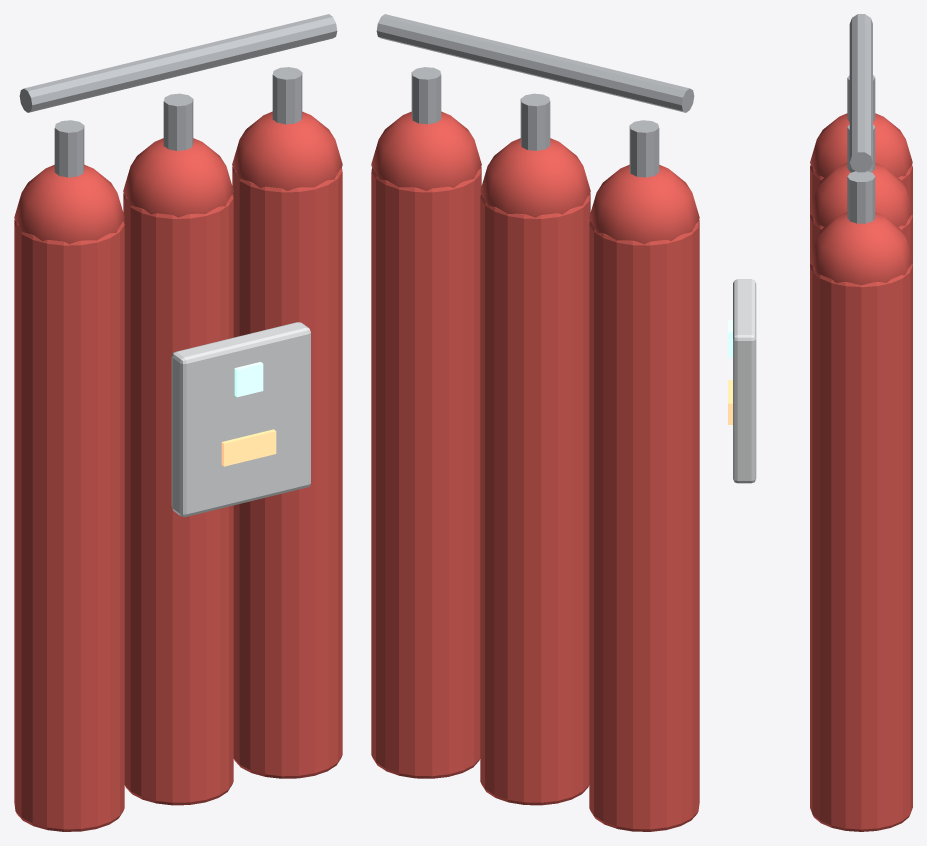
Rendered from suppress.fbx.
3 views of the same model, side by side, from view 1: azimuth 30°, elevation 25°; view 2: azimuth 150°, elevation 25°; view 3: azimuth 270°, elevation 25° (orthographic). The views are drawn at different scales.
Parts seen in each view (by area): view 1: suppress; view 2: suppress; view 3: suppress.
Part boxes in pixels (left/top/right/bottom): suppress: left=14, top=14, right=342, bottom=831; suppress: left=371, top=14, right=699, bottom=831; suppress: left=728, top=14, right=912, bottom=831.
Size of the model in its own units: 0.72 by 1.6 by 0.395.
